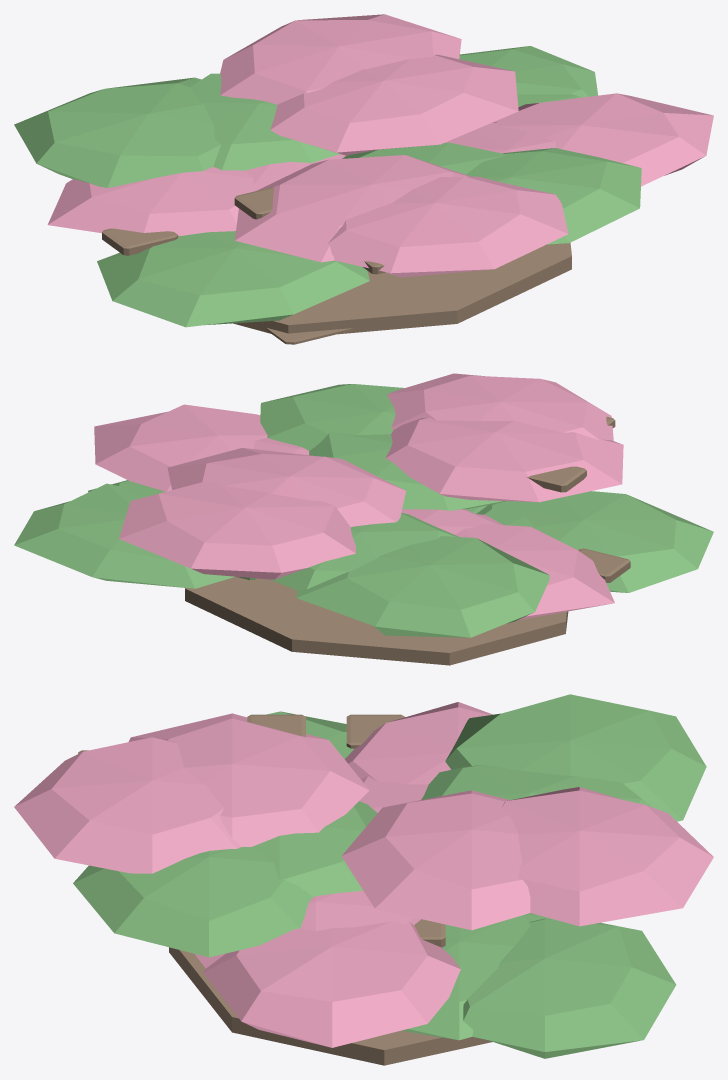
File: b08_creeping_juniper.glb
3 views of the same model, one above another, from view 1: azimuth 30°, elevation 25°; view 2: azimuth 150°, elevation 25°; view 3: azimuth 270°, elevation 25° (orthographic). The views are drawn at different scales.
Parts seen in each view (by area): view 1: b08_creeping_juniper; view 2: b08_creeping_juniper; view 3: b08_creeping_juniper.
Boxes of the visible parts, x1,y1,x2,y2 form: b08_creeping_juniper: (14, 14, 713, 344); b08_creeping_juniper: (14, 373, 713, 665); b08_creeping_juniper: (14, 694, 713, 1065).
Size of the model in its own units: 2.07 by 0.424 by 1.74.
